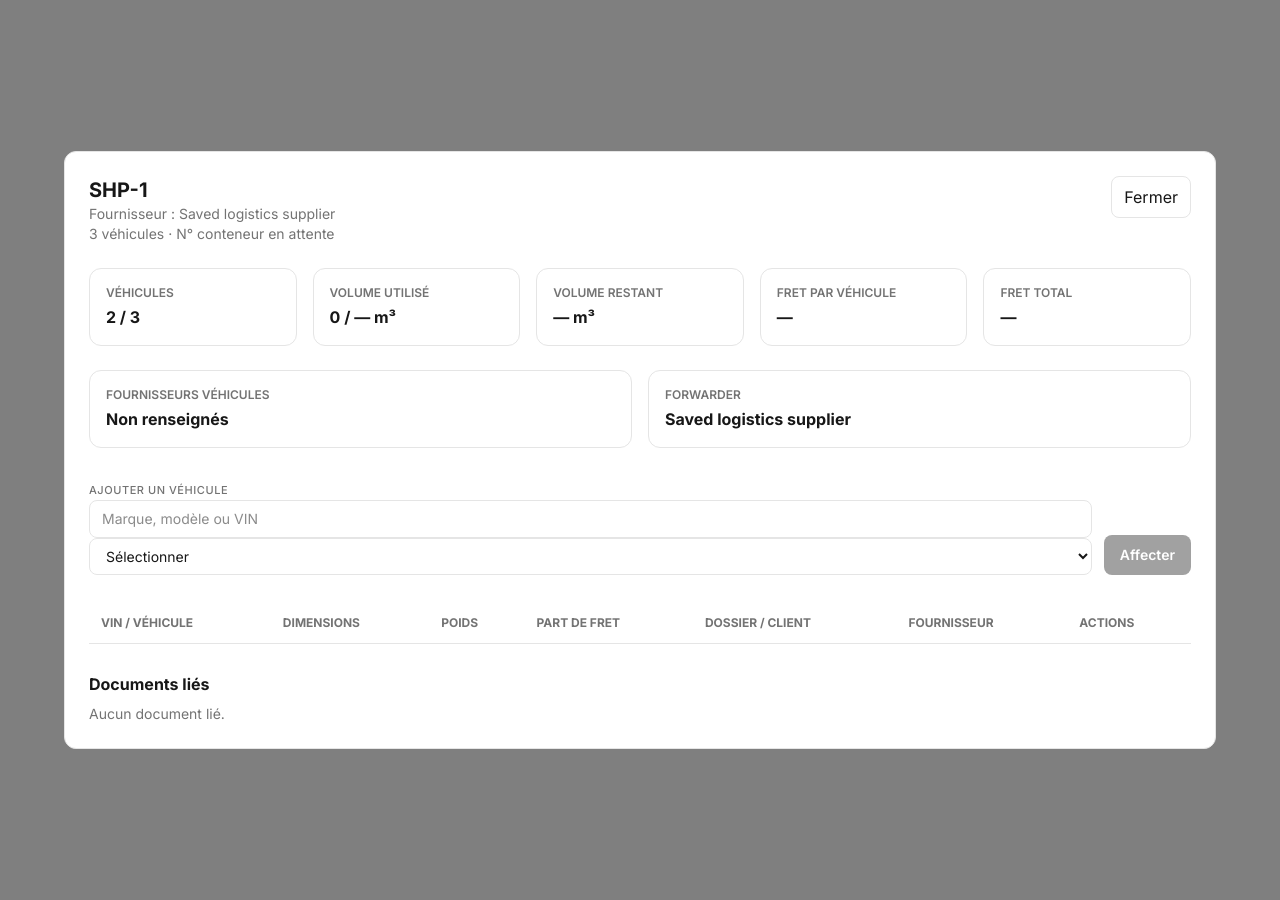
Test: surfaces a concurrent count-capacity rejection without offering a forbidden override
Select "VIN manquant · Geely Monjaro" in the dropdown named "Ajouter un véhicule": (590, 556) [89,538,1092,575]
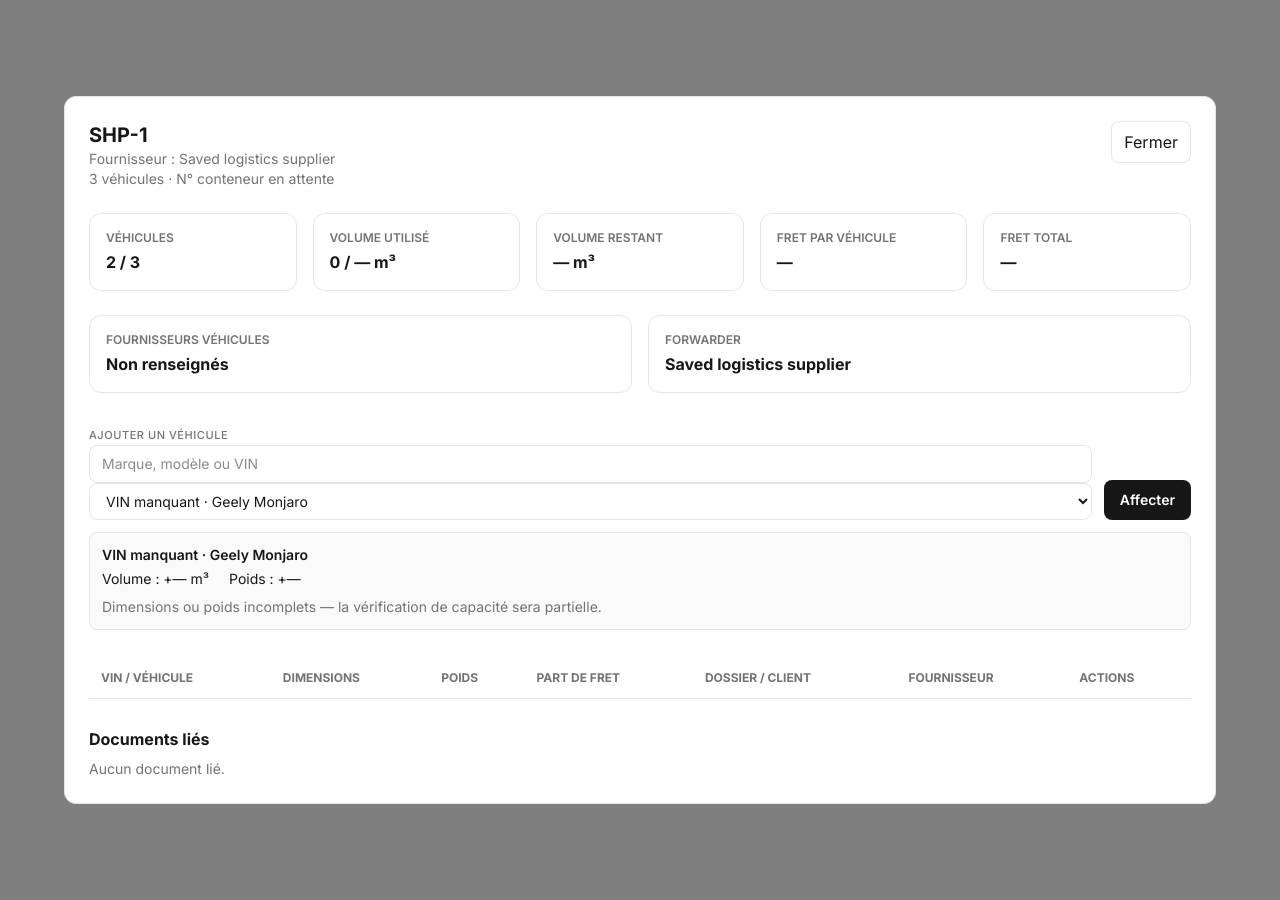
Click the button "Affecter": click(1147, 500) [1104,480,1191,520]
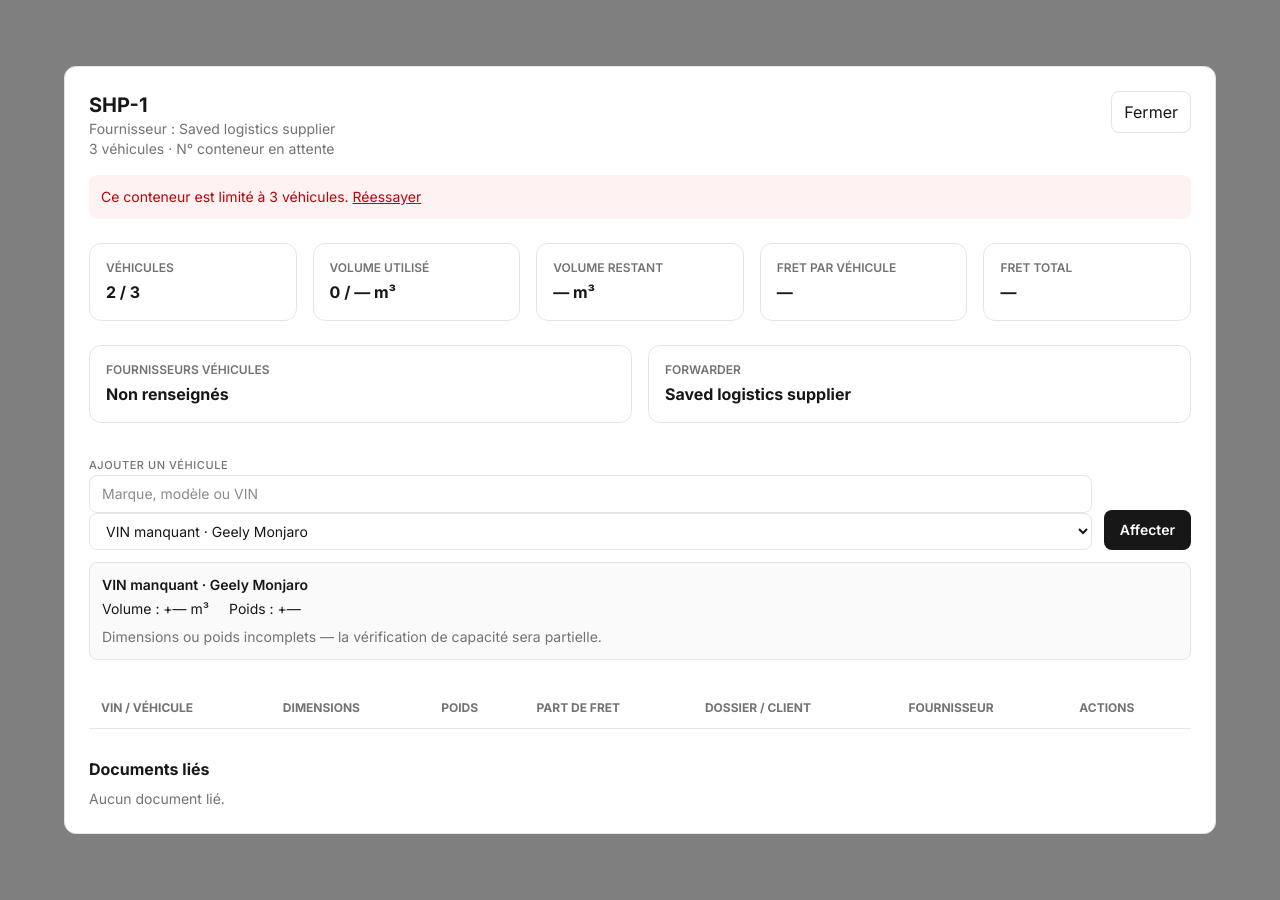
expect the text "Fournisseur : Saved logistics supplier" is shown: met, box [89,119,335,139]
expect the button "Réessayer" is shown: met, box [353,187,421,207]
